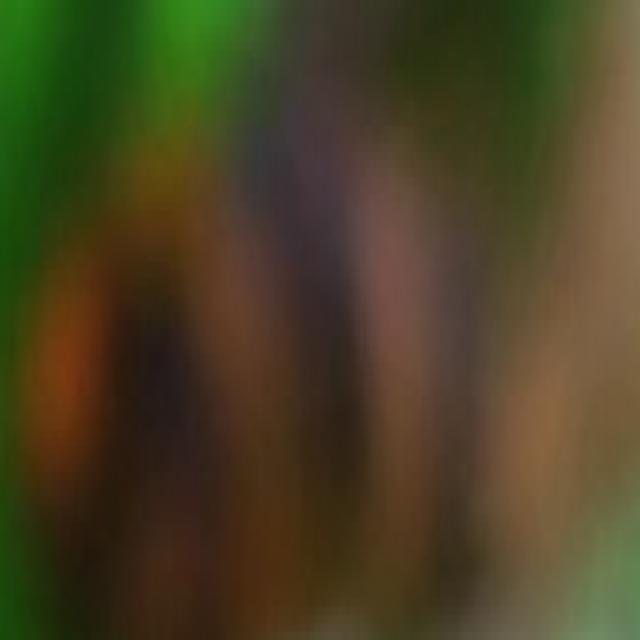fish: (3, 8, 640, 640)
